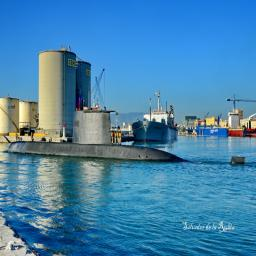submarine: (9, 111, 247, 165)
